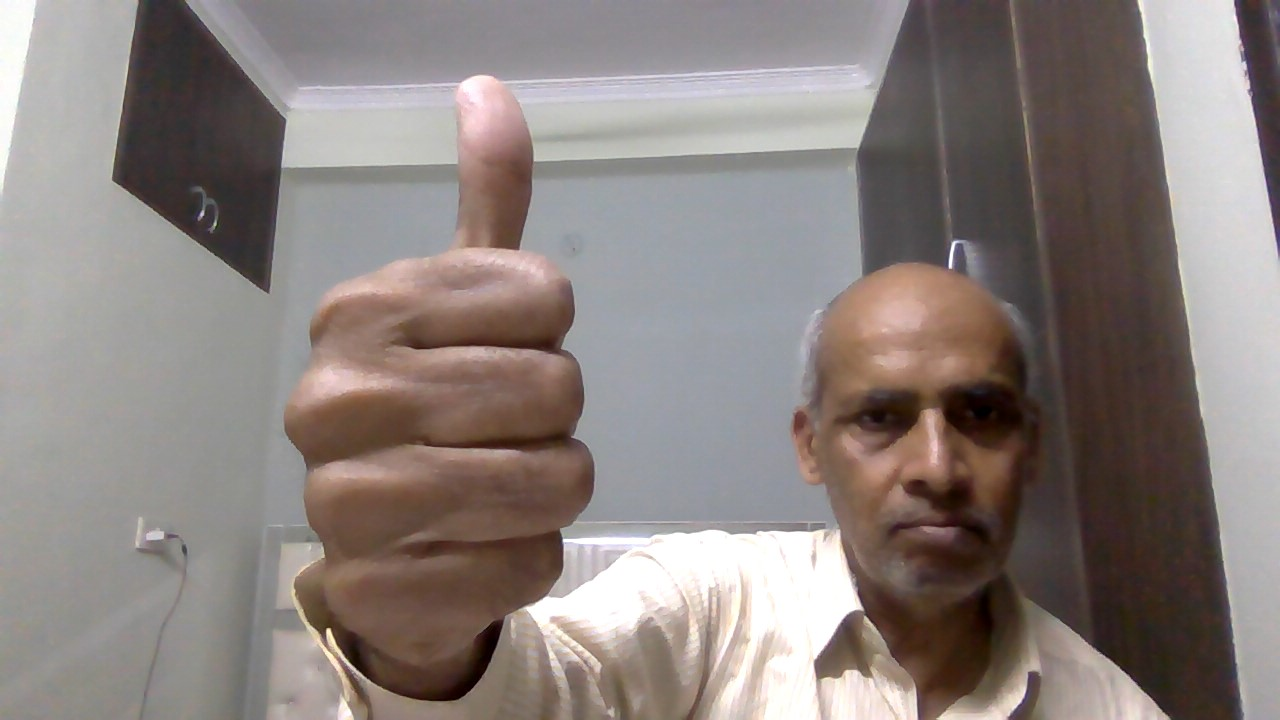Save: (268, 67, 617, 675)
